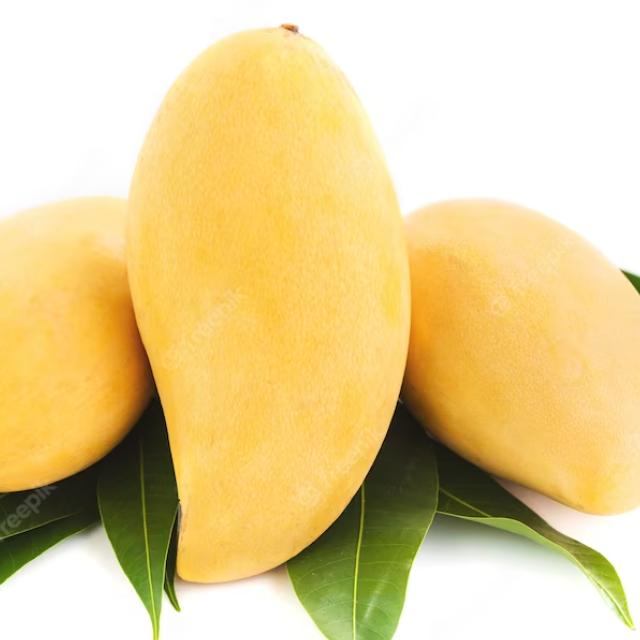mango: (124, 29, 413, 584)
